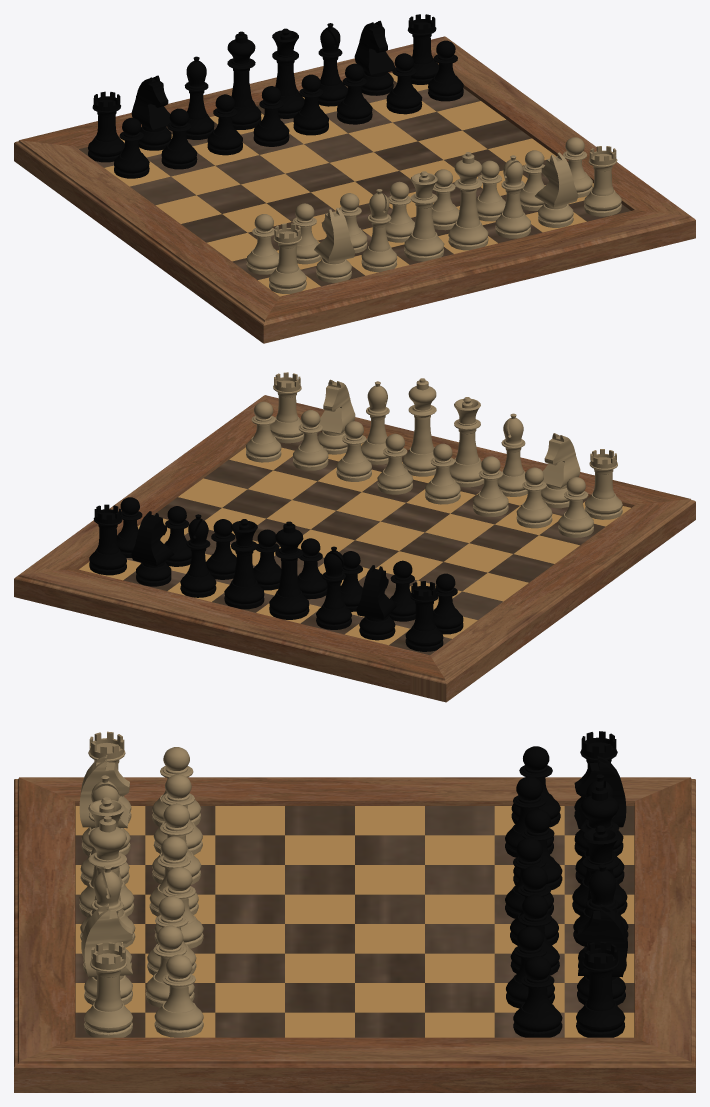
The model's file is Chess2.obj.
3 views of the same model, one above another, from view 1: azimuth 30°, elevation 25°; view 2: azimuth 150°, elevation 25°; view 3: azimuth 270°, elevation 25° (orthographic). The views are drawn at different scales.
Parts seen in each view (by area): view 1: Chess_Board.001; view 2: Chess_Board.001; view 3: Chess_Board.001.
Boxes of the visible parts, x1,y1,x2,y2 form: Chess_Board.001: (14, 14, 695, 343); Chess_Board.001: (14, 372, 695, 702); Chess_Board.001: (14, 731, 695, 1092).
Bounding box in the file's own units: 4.91 × 1.16 × 4.91.
Materials: 5 (2 with a texture image).
